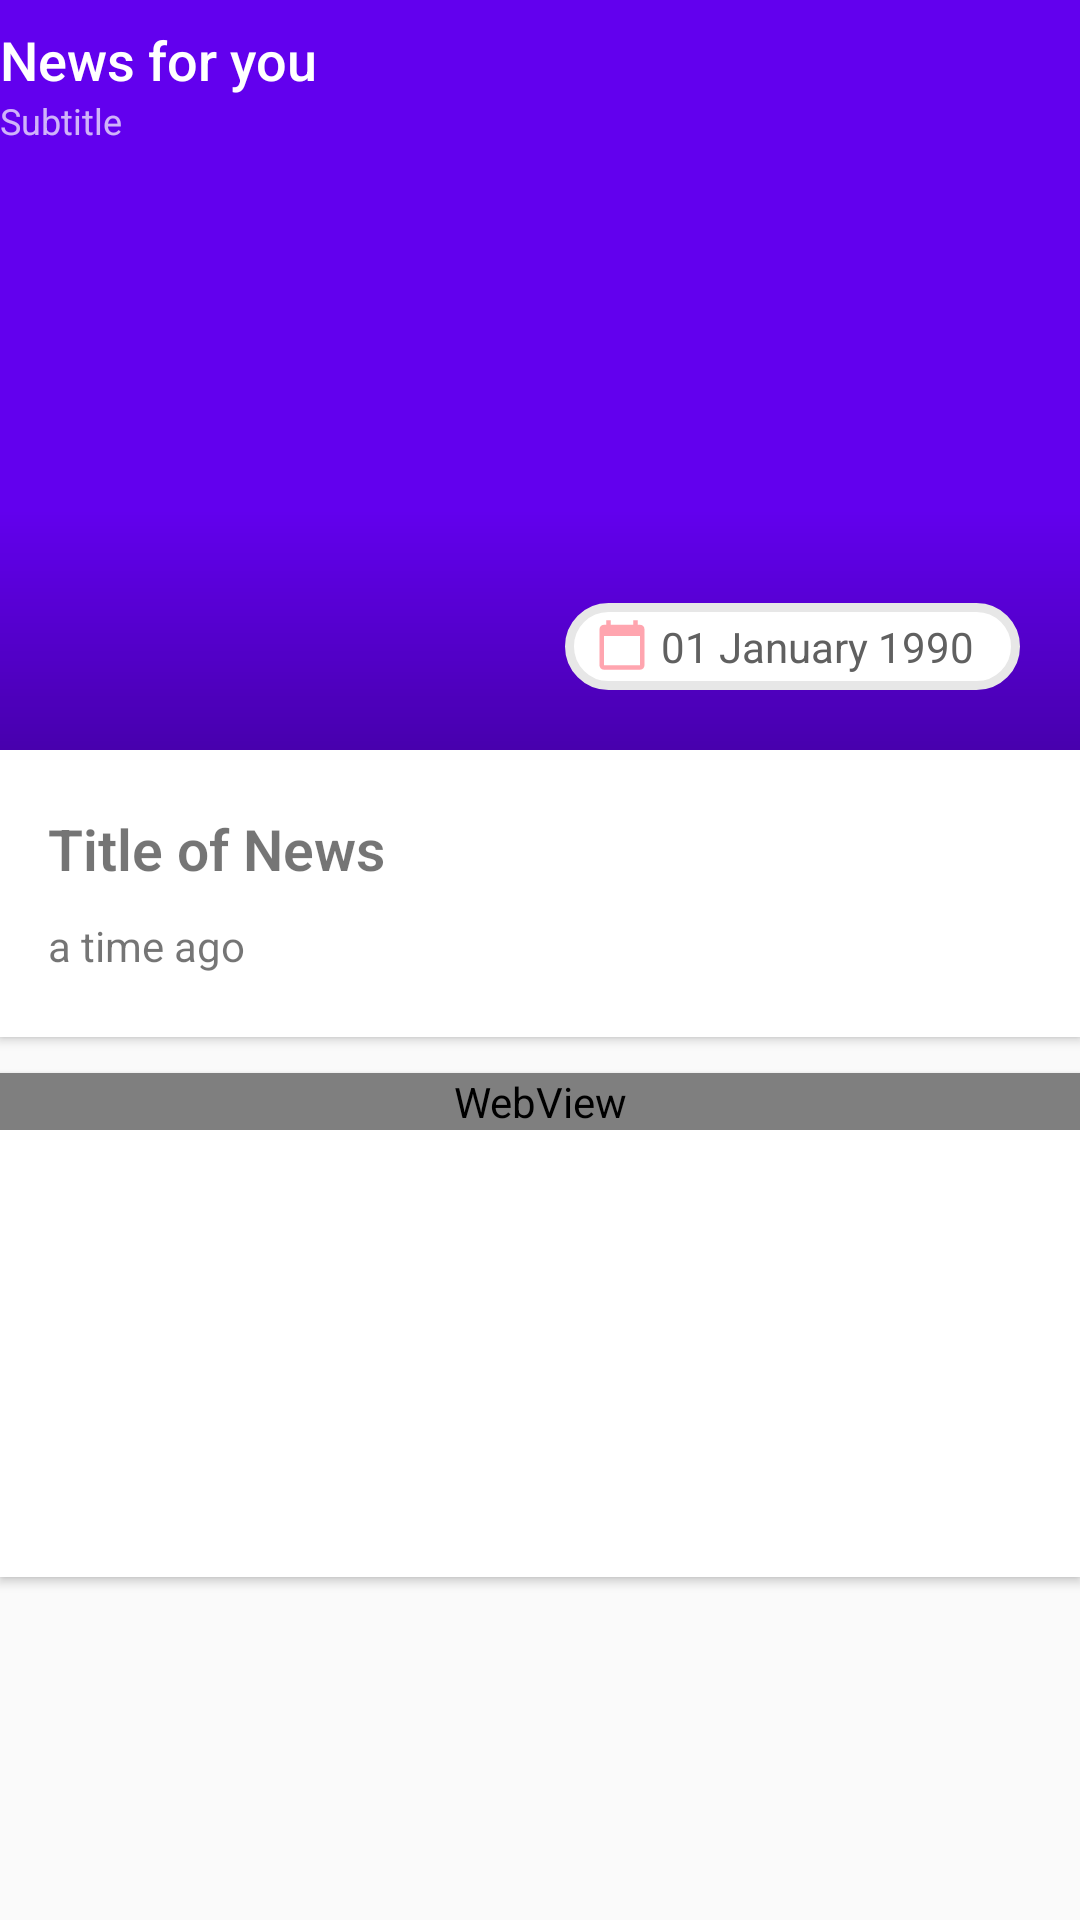

Icons on this 1080px×1920px Android screen, each with its box as (x1, y1, x2, y2):
calendar today: (599, 620, 645, 670)
